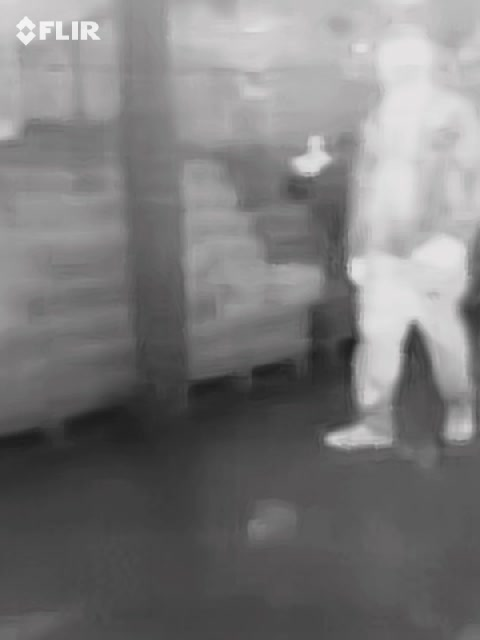head: (376, 24, 437, 95)
